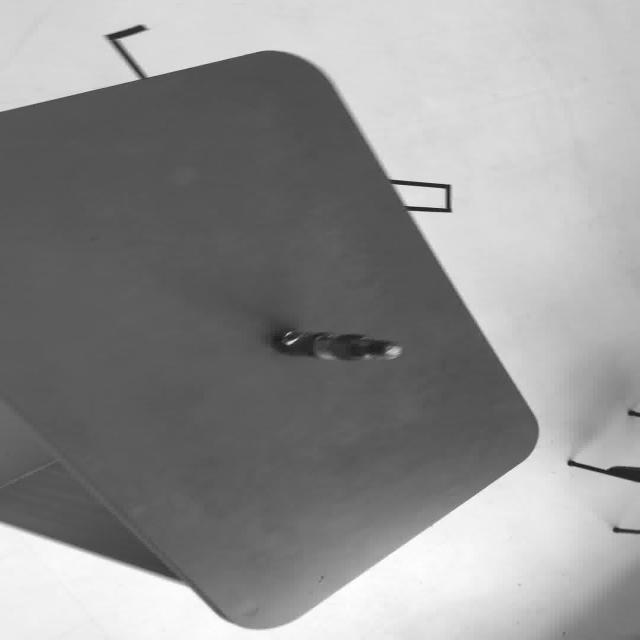guarana: (1, 46, 541, 629), (274, 329, 403, 361)
